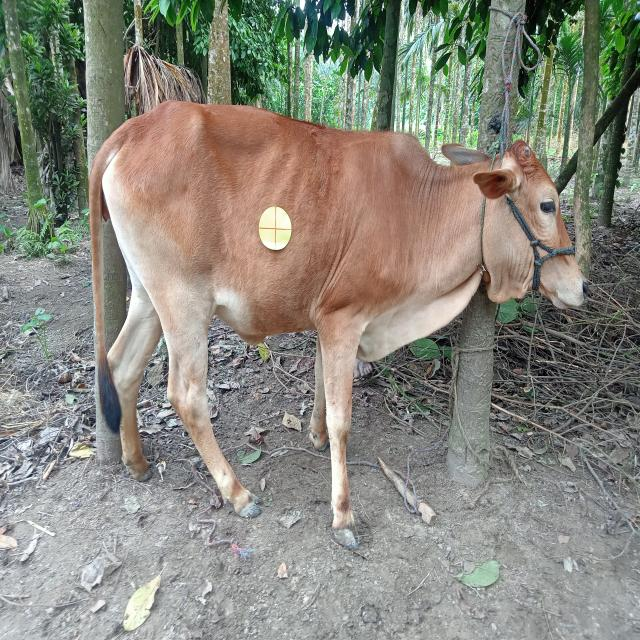badan_sapi: (104, 124, 410, 341)
sapi: (72, 87, 603, 566)
